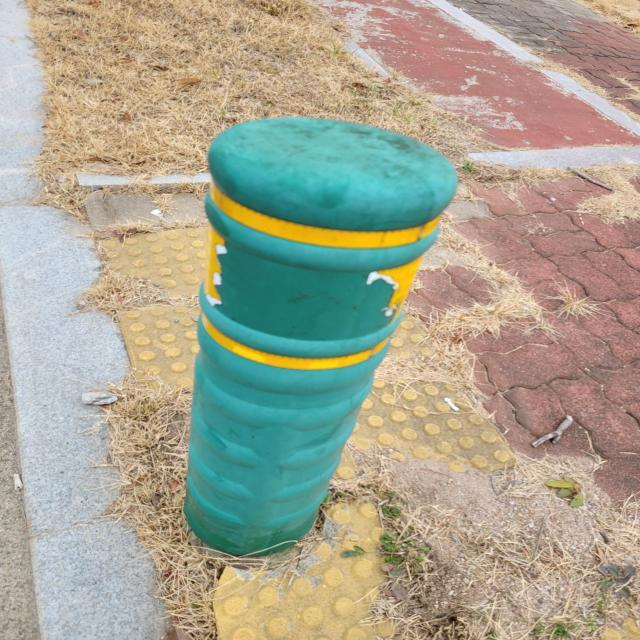pole: (182, 117, 444, 562)
